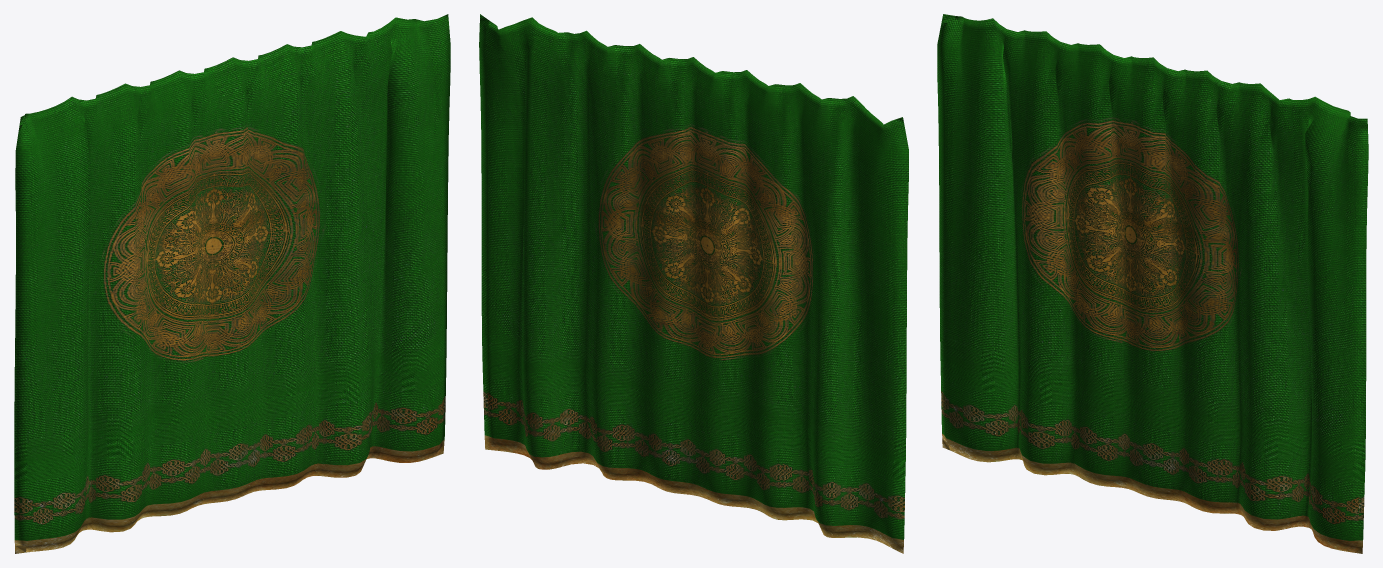
Rendered from sponza_322.gltf.
3 renders of one model, left to right at view 1: azimuth 30°, elevation 25°; view 2: azimuth 150°, elevation 25°; view 3: azimuth 330°, elevation 25°, orthographic.
Visible parts, largest first — view 1: sponza_322; view 2: sponza_322; view 3: sponza_322.
Boxes of the visible parts, x1,y1,x2,y2 form: sponza_322: [14, 14, 450, 553]; sponza_322: [479, 14, 908, 553]; sponza_322: [937, 14, 1368, 553].
Size of the model in its own units: 287 by 283 by 24.58.
